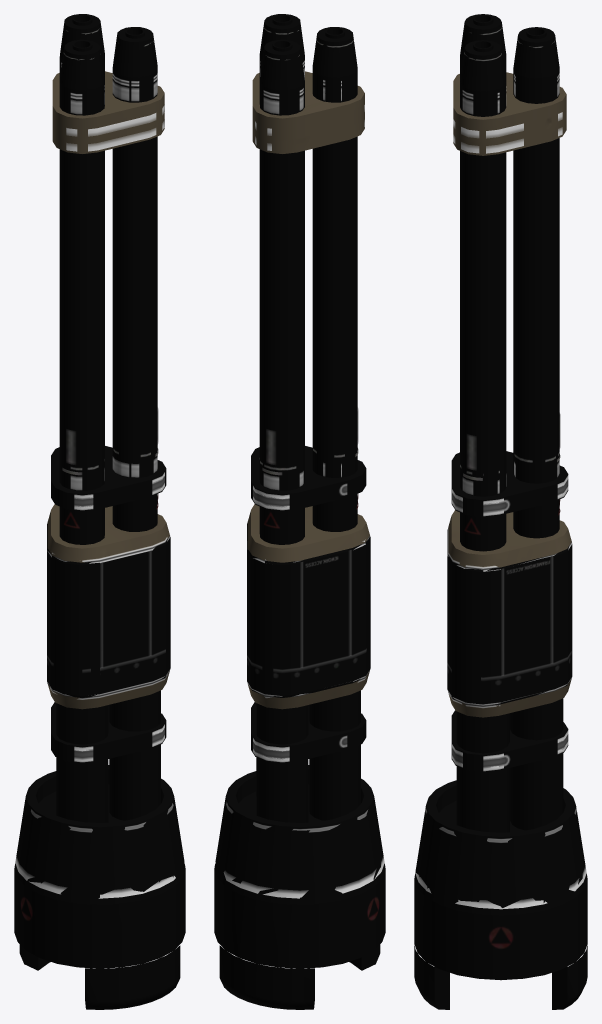
File: tmsb-5-gatling.glb
3 renders of one model, left to right at view 1: azimuth 30°, elevation 25°; view 2: azimuth 150°, elevation 25°; view 3: azimuth 270°, elevation 25°, orthographic.
Visible parts, largest first — view 1: anvl_f7cm_mk2_gatling, barrel_anim; view 2: anvl_f7cm_mk2_gatling, barrel_anim; view 3: anvl_f7cm_mk2_gatling, barrel_anim.
Boxes of the visible parts, x1,y1,x2,y2 form: anvl_f7cm_mk2_gatling: (14,14,185,1009); barrel_anim: (47,71,169,709); anvl_f7cm_mk2_gatling: (214,14,385,1009); barrel_anim: (247,71,369,709); anvl_f7cm_mk2_gatling: (414,14,587,1009); barrel_anim: (447,72,571,717).
Bounding box in the file's own units: 0.52 × 3.18 × 0.52.
Materials: 5 (5 with a texture image).
